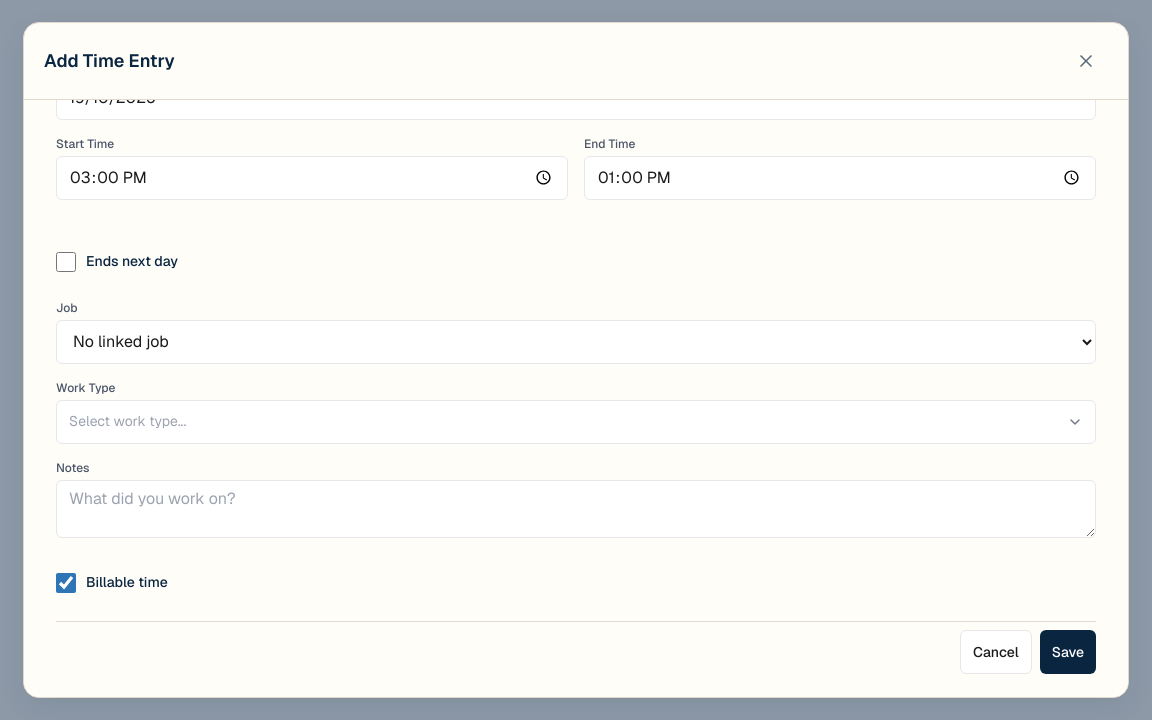
Test: TimeEntryForm save › does not insert a reversed 15:00-13:00 entry
This screenshot has width=1152, height=720.
(page scrolled)
Click the submit button.
click(1068, 652)  # box [1040,630,1096,674]
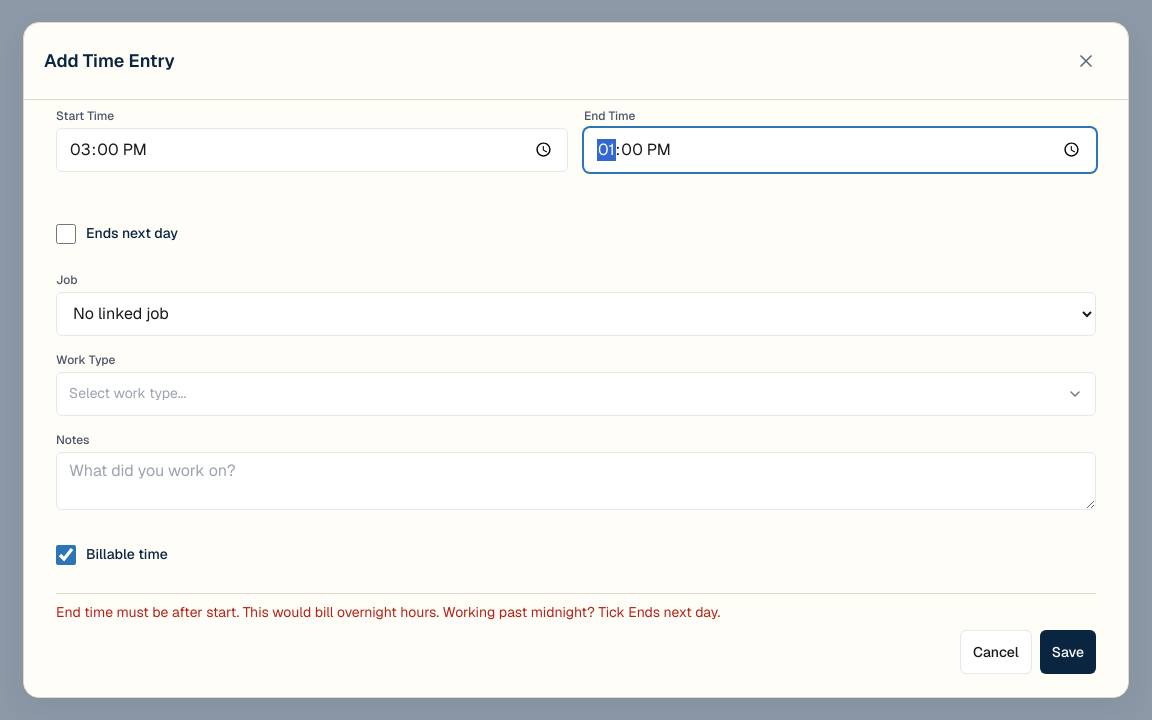
Result: the message shows "End time must be after start. This would bill overnight hours." at [56,603,720,621]
